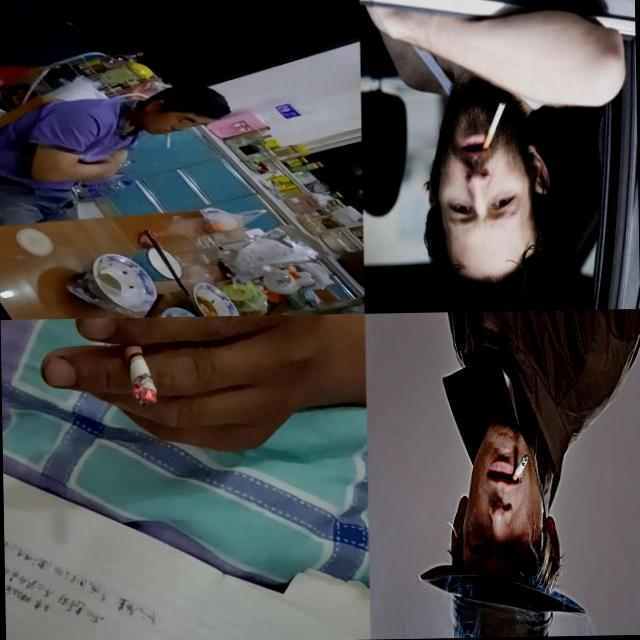smoke: (116, 322, 159, 404), (470, 99, 512, 169), (506, 450, 531, 489), (167, 132, 170, 148)
